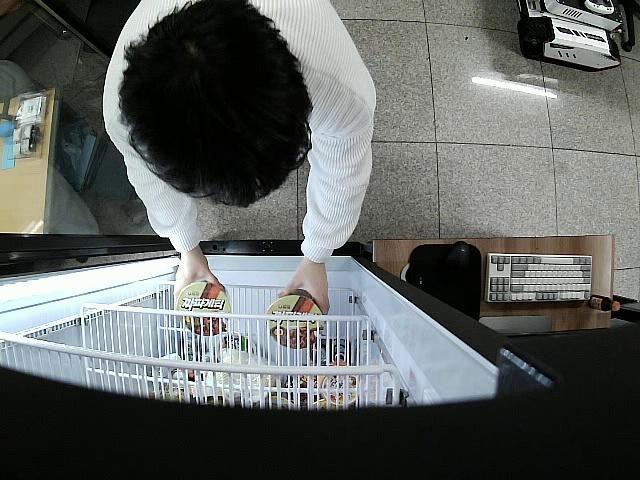03_chapagetti_L: (266, 290, 326, 349), (176, 282, 232, 336)
